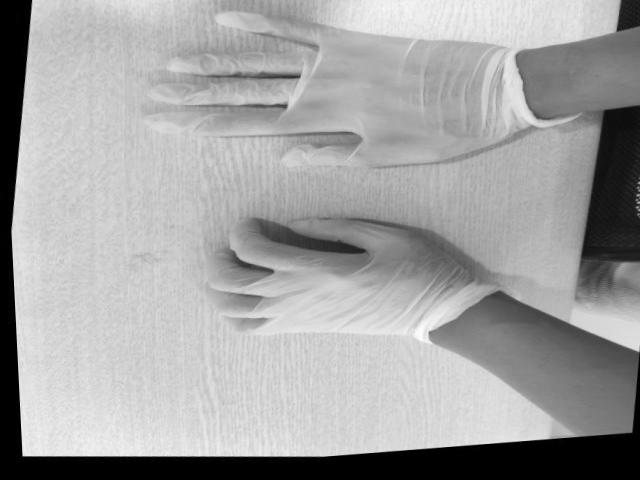gloved: (158, 13, 500, 169), (207, 220, 415, 337)
